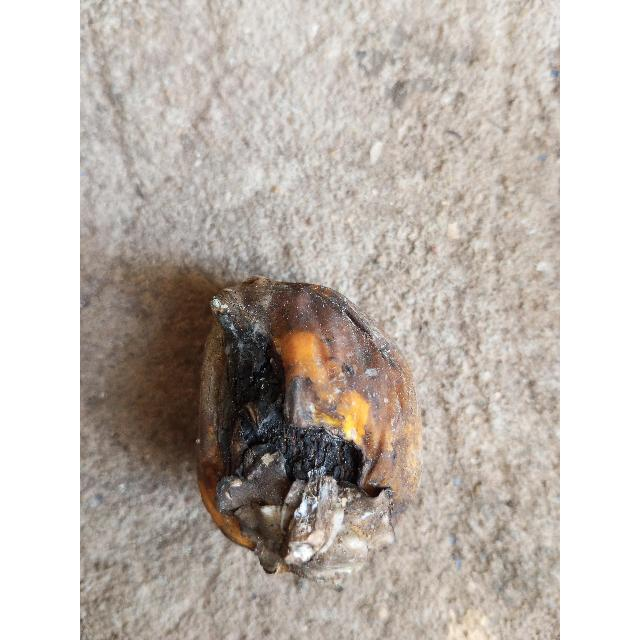damaged: (195, 278, 423, 576)
